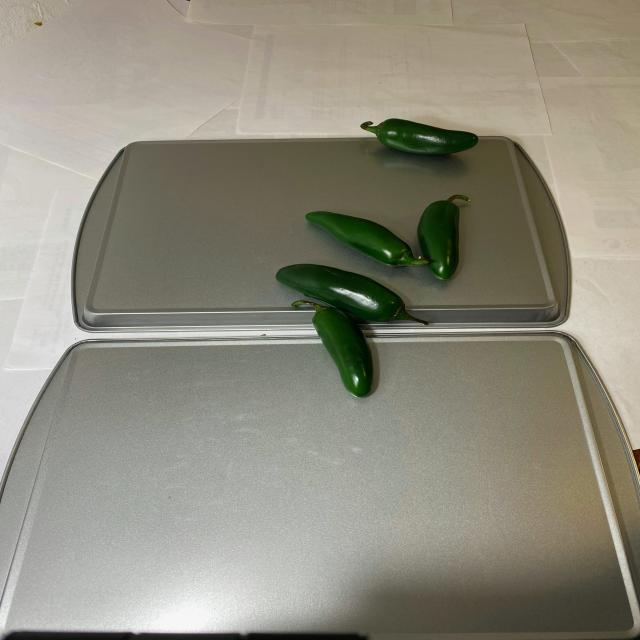chilli: (272, 120, 488, 401)
